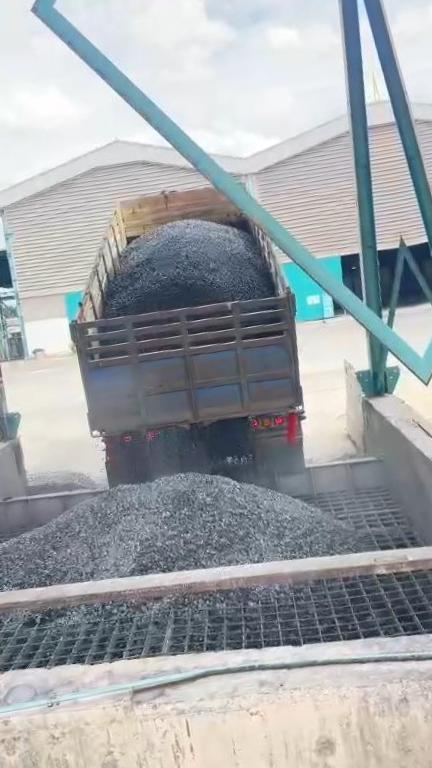gravel: (0, 473, 356, 591), (104, 219, 275, 317), (44, 585, 301, 631), (26, 469, 102, 495)
